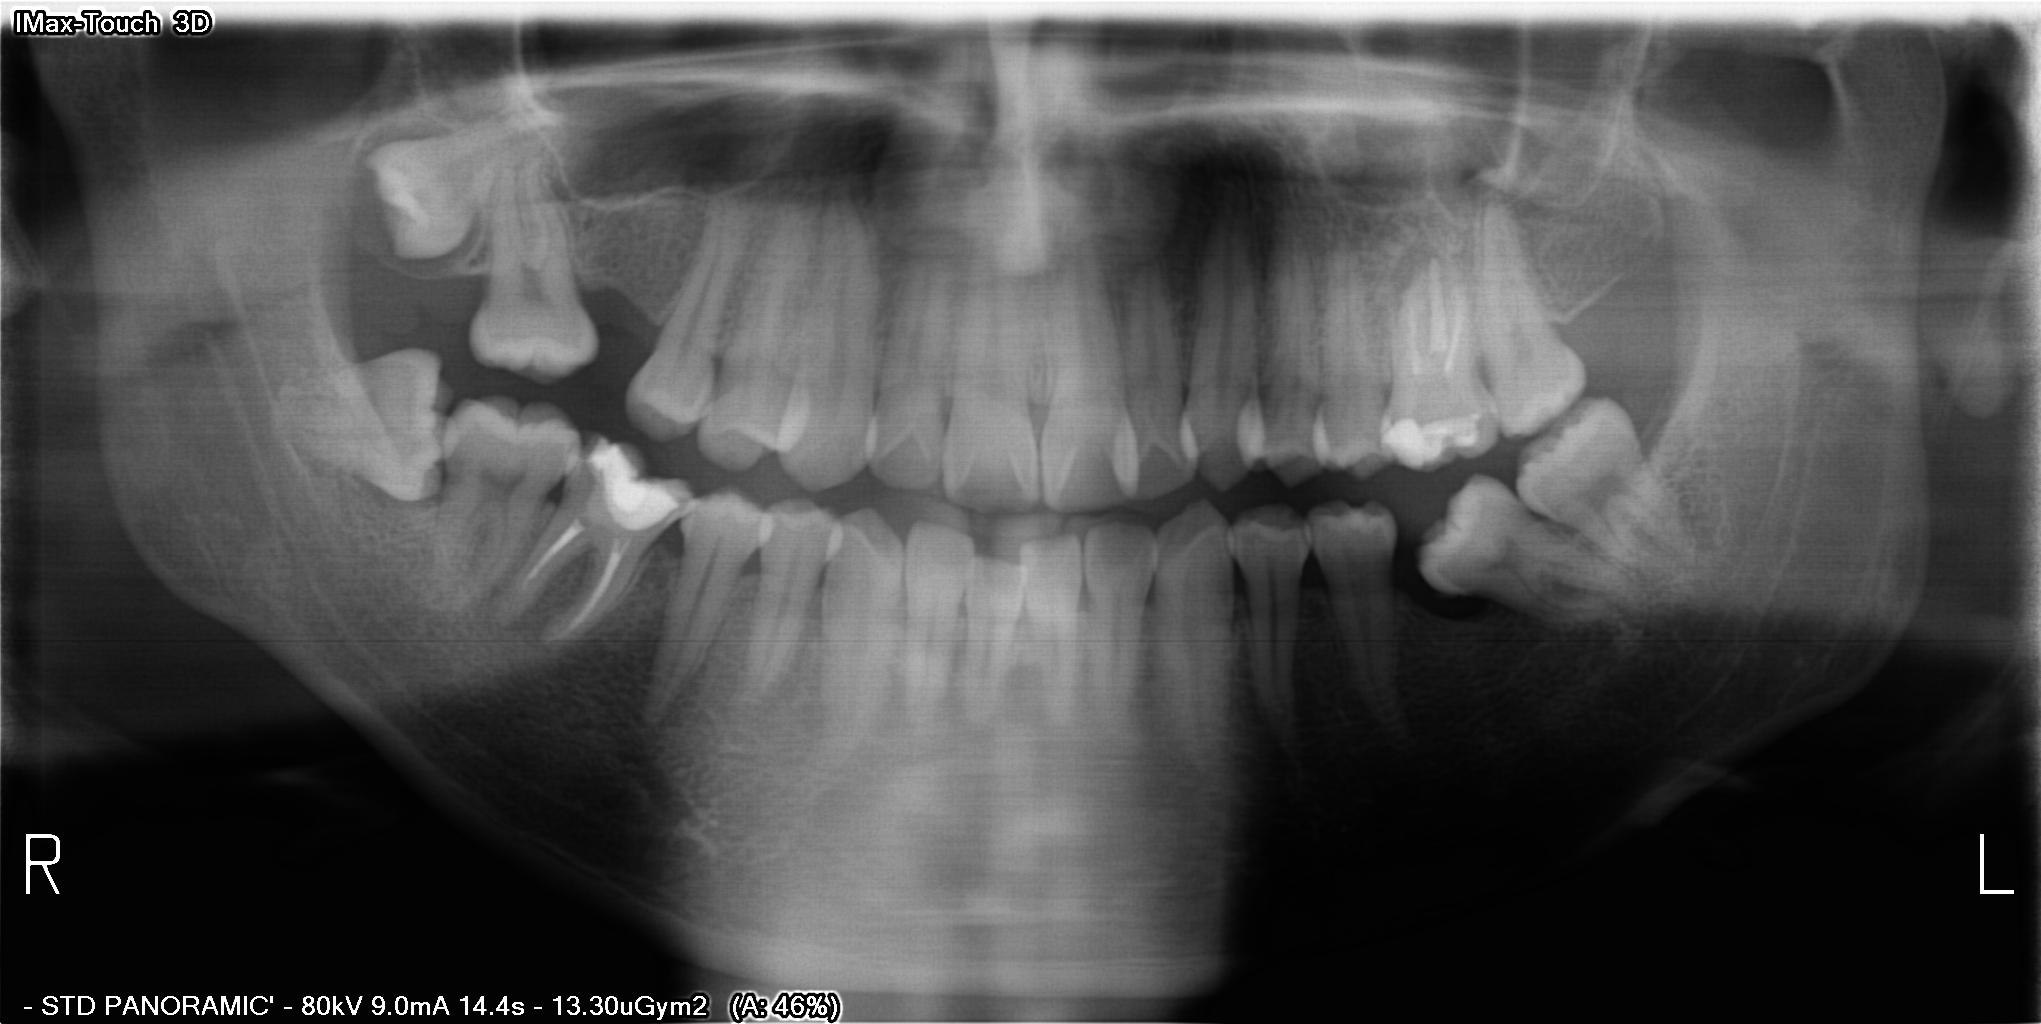Çürük: (581, 445, 679, 533), (1388, 410, 1469, 469)
Çürük Bölgesi: (1469, 410, 1502, 452)
